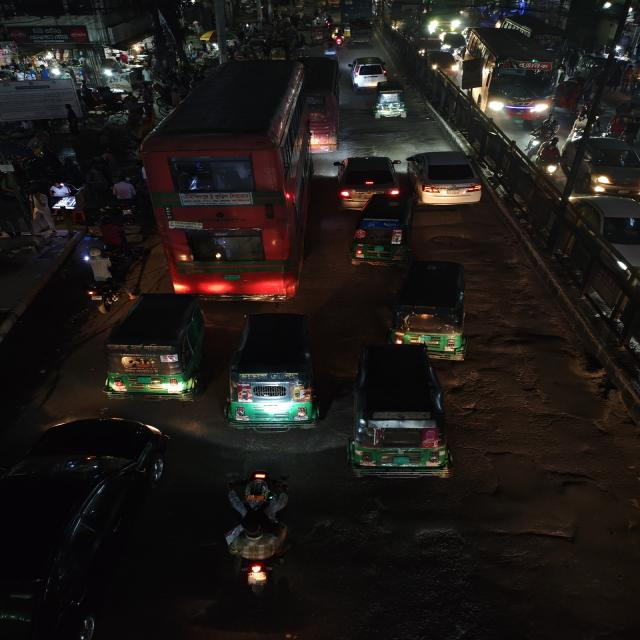bus: (139, 58, 306, 300), (468, 27, 561, 123), (295, 55, 342, 156), (508, 16, 566, 52)
car: (0, 412, 169, 639), (567, 194, 640, 288), (404, 146, 484, 208), (561, 135, 640, 195), (332, 152, 401, 208), (346, 54, 391, 90), (421, 48, 459, 76)
cng: (346, 344, 459, 484), (100, 291, 210, 403), (223, 311, 320, 437), (387, 257, 475, 360), (349, 200, 412, 268), (372, 81, 411, 121)
motorcycle: (219, 460, 298, 599), (80, 249, 121, 309)
pedestrian: (109, 176, 137, 205)
truck: (348, 19, 375, 47)
